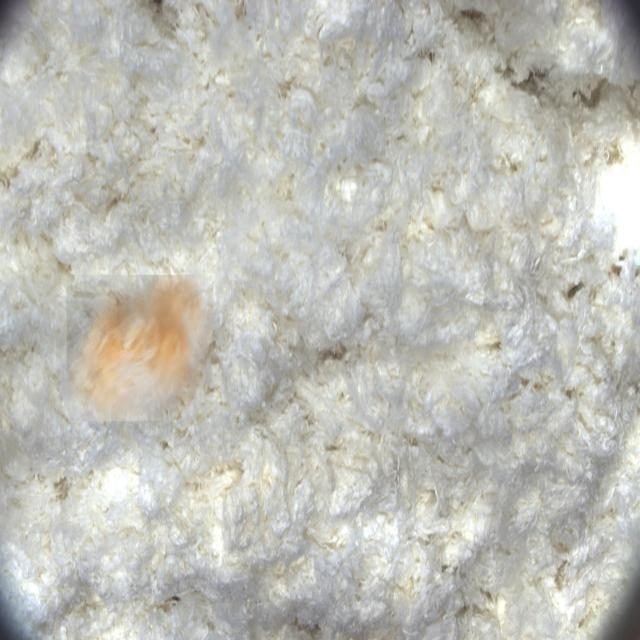dust: (67, 275, 213, 421)
